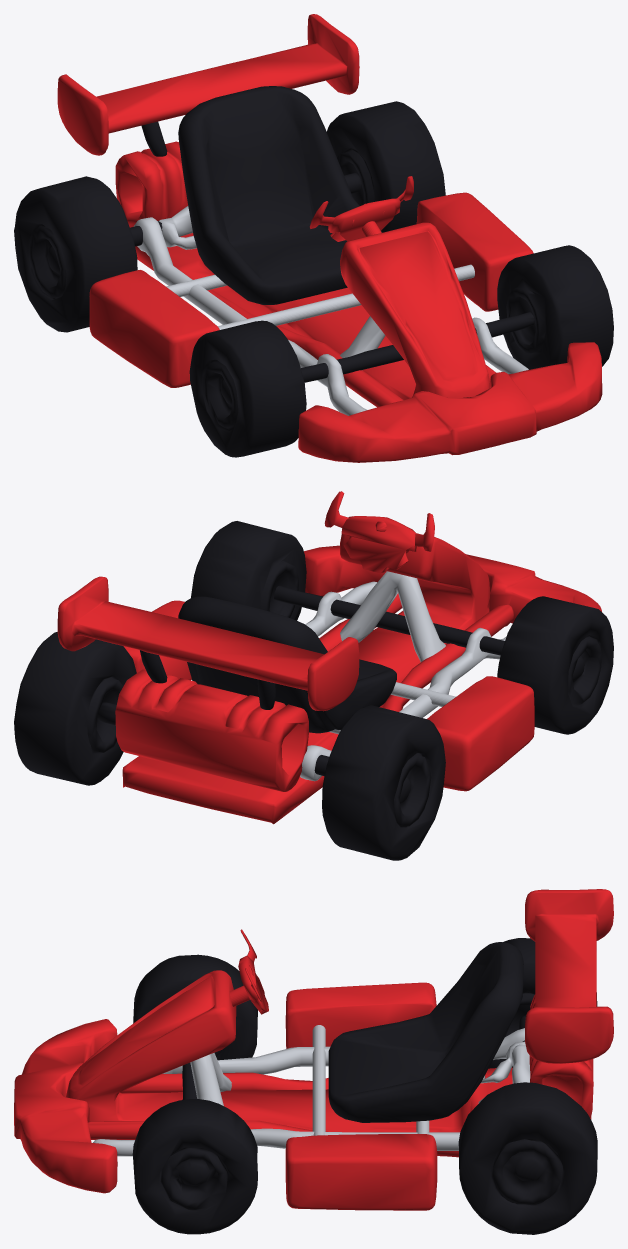
Rendered from auto-gokart.glb.
3 renders of one model, top to bottom at view 1: azimuth 30°, elevation 25°; view 2: azimuth 150°, elevation 25°; view 3: azimuth 270°, elevation 25°, orthographic. The views are drawn at different scales.
Parts seen in each view (by area): view 1: root.0.10_gameasset_root.0.10_gameasset_Mat_1_0, Steering_Wheel_Sport_Car_blinn1_0_gameasset_Steering_Wheel_S, Cylinder.001_gameasset_Cylinder.001_gameasset_Mat_1_0; view 2: Steering_Wheel_Sport_Car_blinn1_0_gameasset_Steering_Wheel_S, root.0.10_gameasset_root.0.10_gameasset_Mat_1_0, Cylinder.001_gameasset_Cylinder.001_gameasset_Mat_1_0; view 3: Steering_Wheel_Sport_Car_blinn1_0_gameasset_Steering_Wheel_S, root.0.10_gameasset_root.0.10_gameasset_Mat_1_0, Cylinder.001_gameasset_Cylinder.001_gameasset_Mat_1_0.
Boxes of the visible parts, <box> form: root.0.10_gameasset_root.0.10_gameasset_Mat_1_0: <box>14,86,613,457</box>; Steering_Wheel_Sport_Car_blinn1_0_gameasset_Steering_Wheel_S: <box>57,14,602,462</box>; Cylinder.001_gameasset_Cylinder.001_gameasset_Mat_1_0: <box>133,206,528,415</box>; Steering_Wheel_Sport_Car_blinn1_0_gameasset_Steering_Wheel_S: <box>57,491,601,824</box>; root.0.10_gameasset_root.0.10_gameasset_Mat_1_0: <box>14,521,613,860</box>; Cylinder.001_gameasset_Cylinder.001_gameasset_Mat_1_0: <box>300,571,506,781</box>; Steering_Wheel_Sport_Car_blinn1_0_gameasset_Steering_Wheel_S: <box>14,889,613,1210</box>; root.0.10_gameasset_root.0.10_gameasset_Mat_1_0: <box>132,938,597,1234</box>; Cylinder.001_gameasset_Cylinder.001_gameasset_Mat_1_0: <box>93,1025,530,1156</box>.
Size of the model in its own units: 1.28 by 0.6707 by 1.81.
